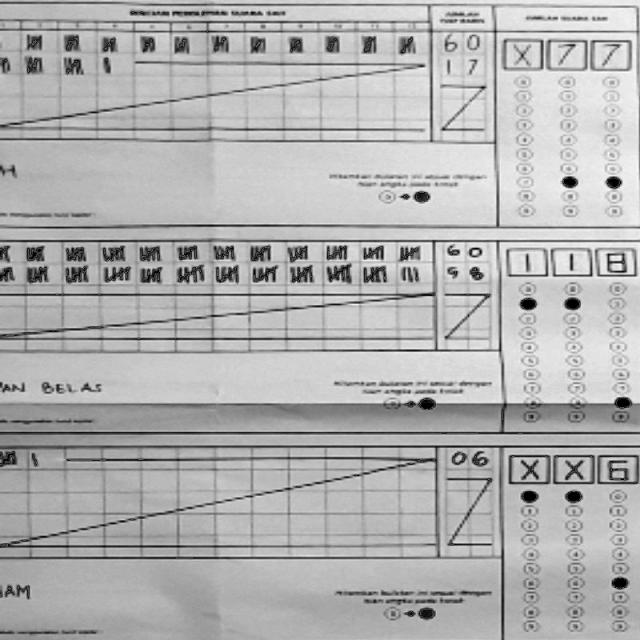Suara: (502, 244, 636, 278), (497, 38, 635, 70), (504, 450, 638, 482)
